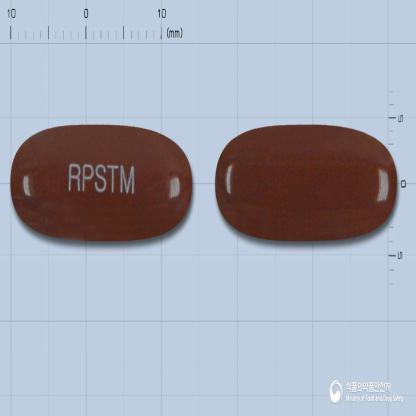pill: (214, 123, 398, 244), (10, 123, 194, 243)
